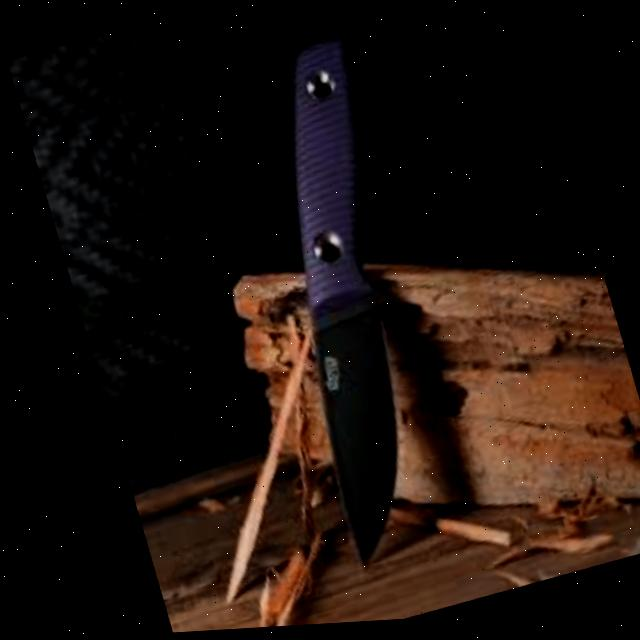Knife: (210, 29, 475, 570)
